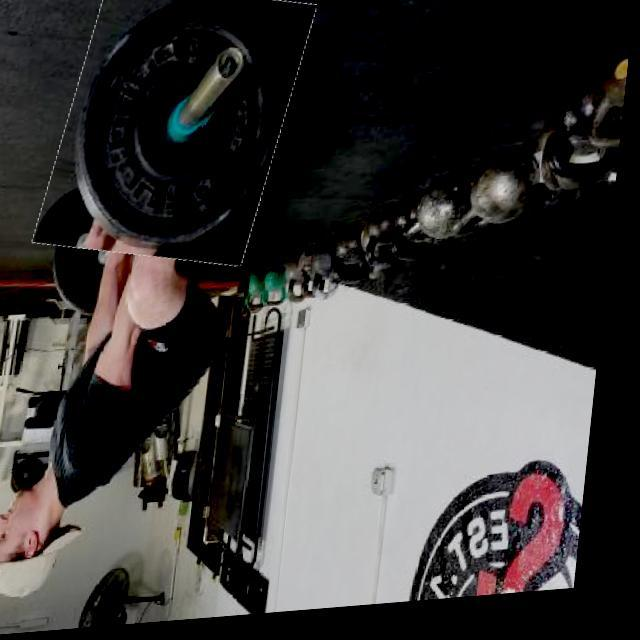barbell: (46, 1, 309, 276)
